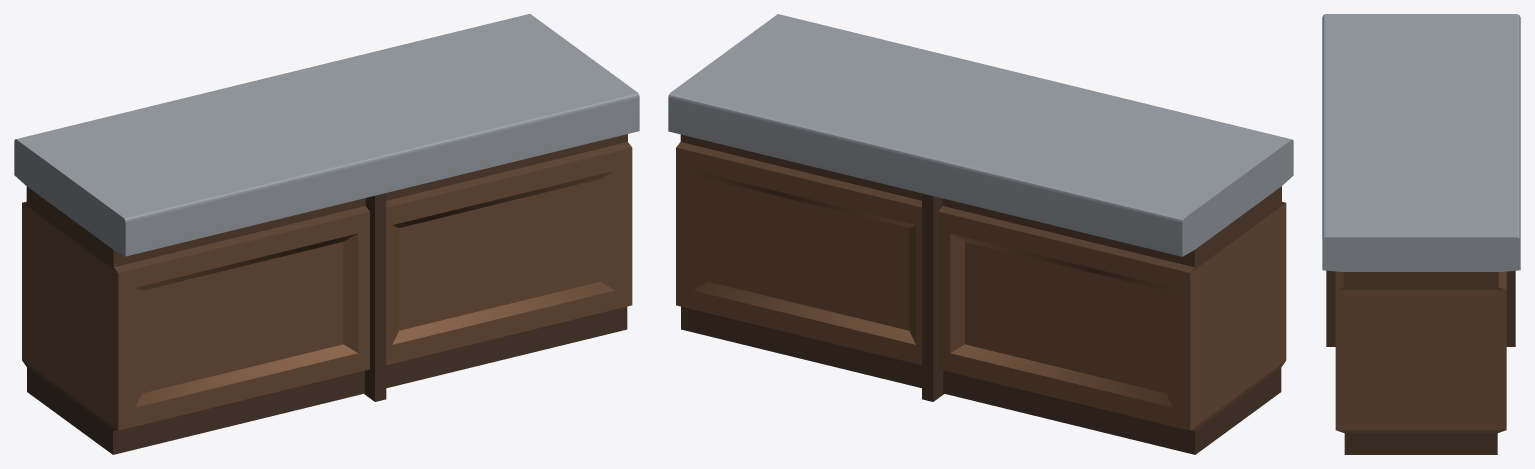
File: Counter.fbx
3 views of the same model, side by side, from view 1: azimuth 30°, elevation 25°; view 2: azimuth 150°, elevation 25°; view 3: azimuth 270°, elevation 25° (orthographic). The views are drawn at different scales.
Visible parts, largest first — view 1: Kitchen_Counter2m; view 2: Kitchen_Counter2m; view 3: Kitchen_Counter2m.
Part boxes in pixels (bbox=[...]): Kitchen_Counter2m: bbox=[14, 14, 639, 454]; Kitchen_Counter2m: bbox=[668, 14, 1293, 454]; Kitchen_Counter2m: bbox=[1322, 14, 1520, 454].
Bounding box in the file's own units: 200 × 91.37 × 75.03.
